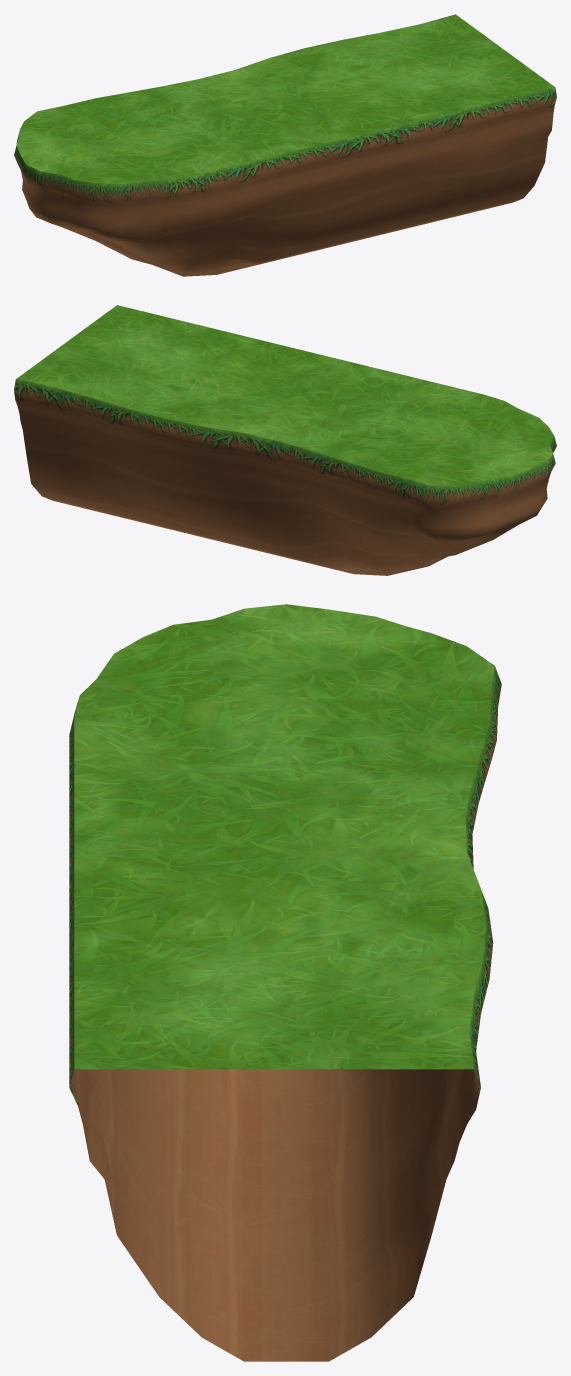
File: lvl1_plat022.FBX
3 renders of one model, top to bottom at view 1: azimuth 30°, elevation 25°; view 2: azimuth 150°, elevation 25°; view 3: azimuth 270°, elevation 25°, orthographic. The views are drawn at different scales.
Parts seen in each view (by area): view 1: lvl1_plat21, lvl1_plat21_grass; view 2: lvl1_plat21, lvl1_plat21_grass; view 3: lvl1_plat21_grass, lvl1_plat21.
Boxes of the visible parts, x1,y1,x2,y2 form: lvl1_plat21: (14,87,556,276); lvl1_plat21_grass: (16,14,555,183); lvl1_plat21: (14,379,556,575); lvl1_plat21_grass: (16,305,554,485); lvl1_plat21_grass: (74,604,494,1069); lvl1_plat21: (69,666,501,1361).
Size of the model in its own units: 1618 by 633 by 472.
